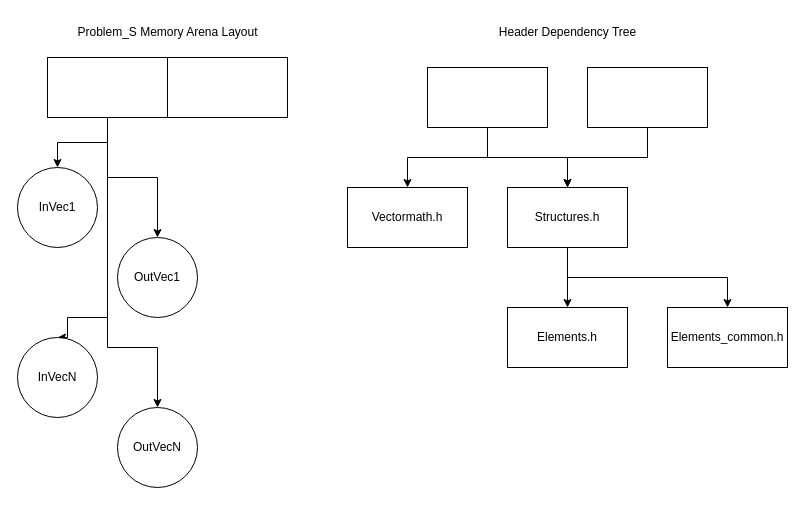
The diagram is 805 pixels wide and 505 high, and some of its shapes have lost their labels. Each missing label, with the centre of its shape:
"Elements" goes at point (227, 87).
"Nodes" goes at point (107, 87).
"PVec.h" goes at point (647, 97).
"Types.h" goes at point (487, 97).
